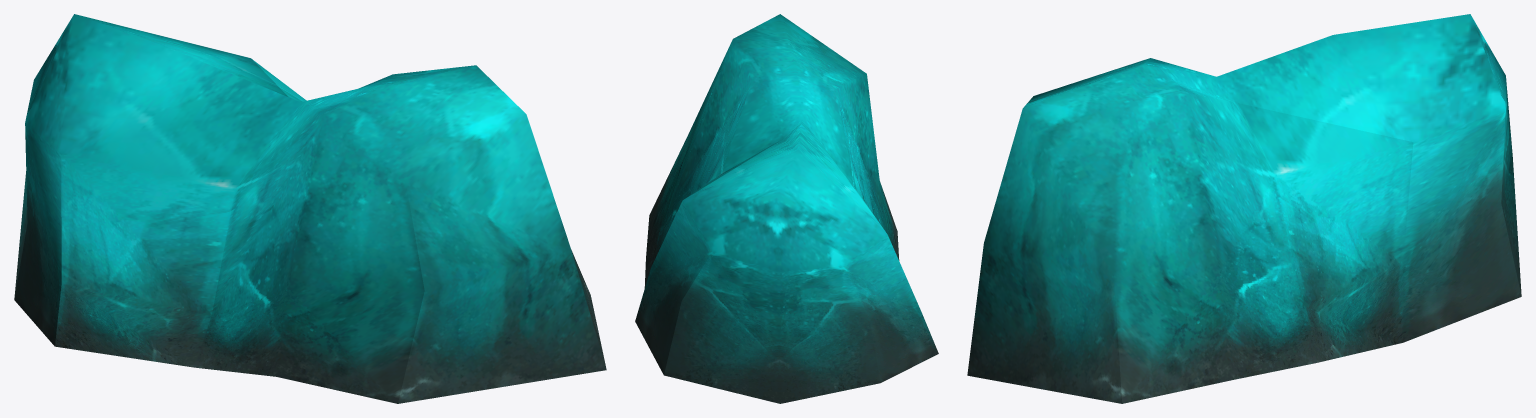
File: icecrown_rock_04.obj
The picture shows the model from 3 angles, left to right: view 1: azimuth 30°, elevation 25°; view 2: azimuth 150°, elevation 25°; view 3: azimuth 270°, elevation 25°; orthographic projection. The views are drawn at different scales.
Visible parts, largest first — view 1: icecrown_rock_04; view 2: icecrown_rock_04; view 3: icecrown_rock_04.
Part boxes in pixels (x1,y1,x2,y2): icecrown_rock_04: (14, 14, 606, 403); icecrown_rock_04: (635, 14, 938, 403); icecrown_rock_04: (967, 14, 1521, 403).
Size of the model in its own units: 2 by 1.1 by 2.18.
Materials: 1 (1 with a texture image).
